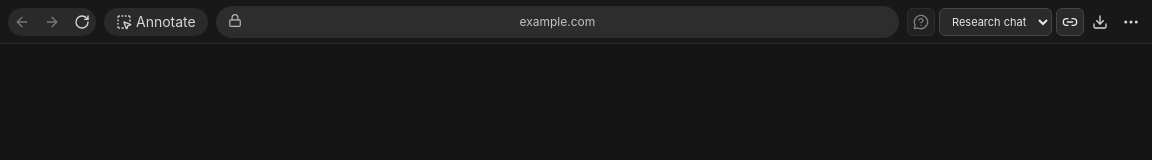
shows a failed attach in the surface's error row and clears it on a successful retry
Step 1. Click the button named "Attach tab to chat" → (1070, 22), box [1056,8,1084,36]
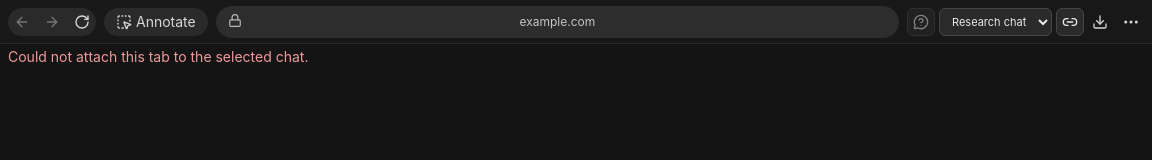
Check: the message reads "Could not attach this tab to the selected chat.", box [8,48,308,65]
Step 2. Click the button named "Attach tab to chat" → (1070, 22), box [1056,8,1084,36]
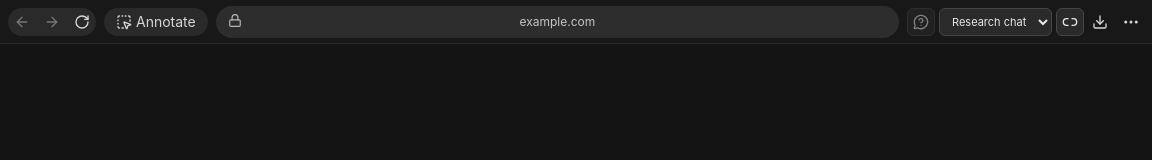
Check: the button named "Detach tab from chat" is shown, box [1056,8,1084,36]
Check: the message "Could not attach this tab to the selected chat." is gone
